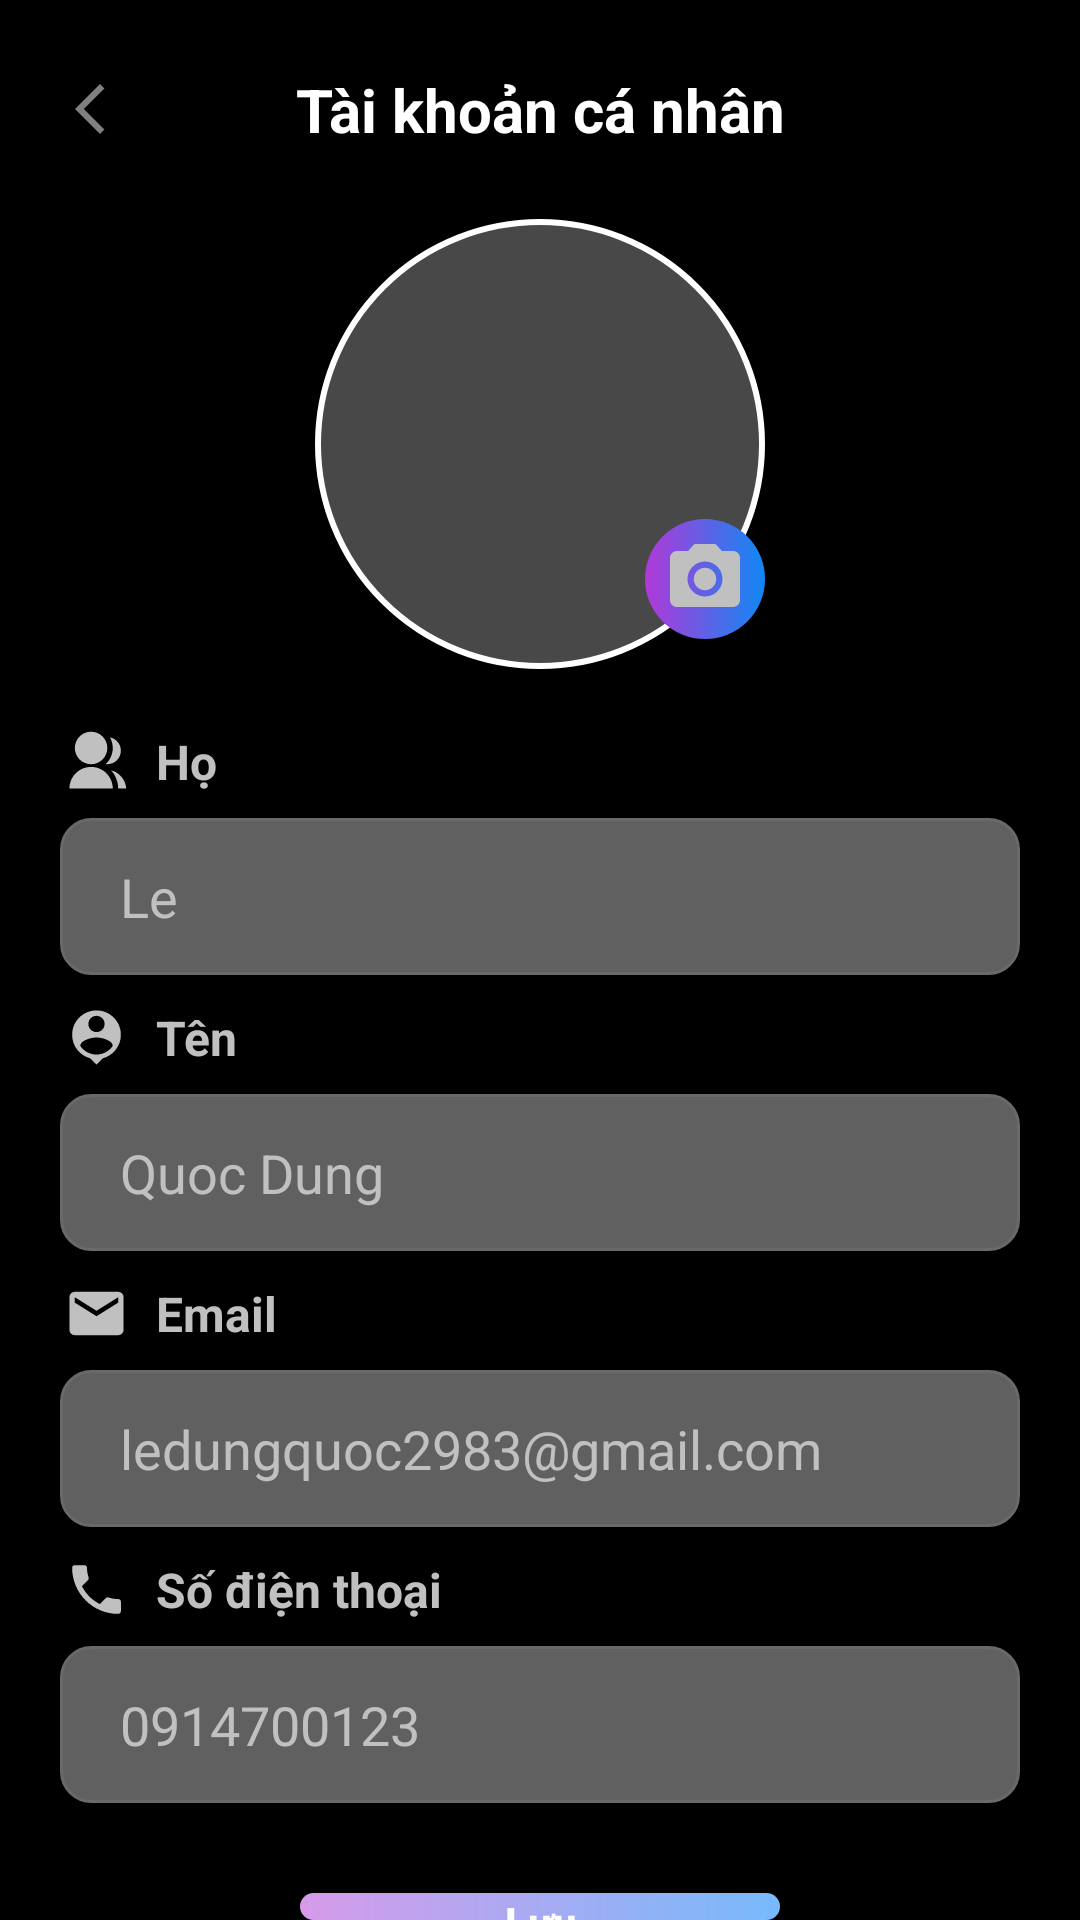

Screen size 1080px x 1920px. Icon name, then its center in pixels as [x,y]:
back: [89,109]
person: [96,1037]
phone: [96,1589]
photo camera: [705,579]
